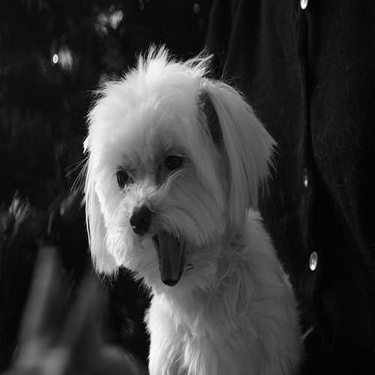dog: (56, 39, 310, 371)
